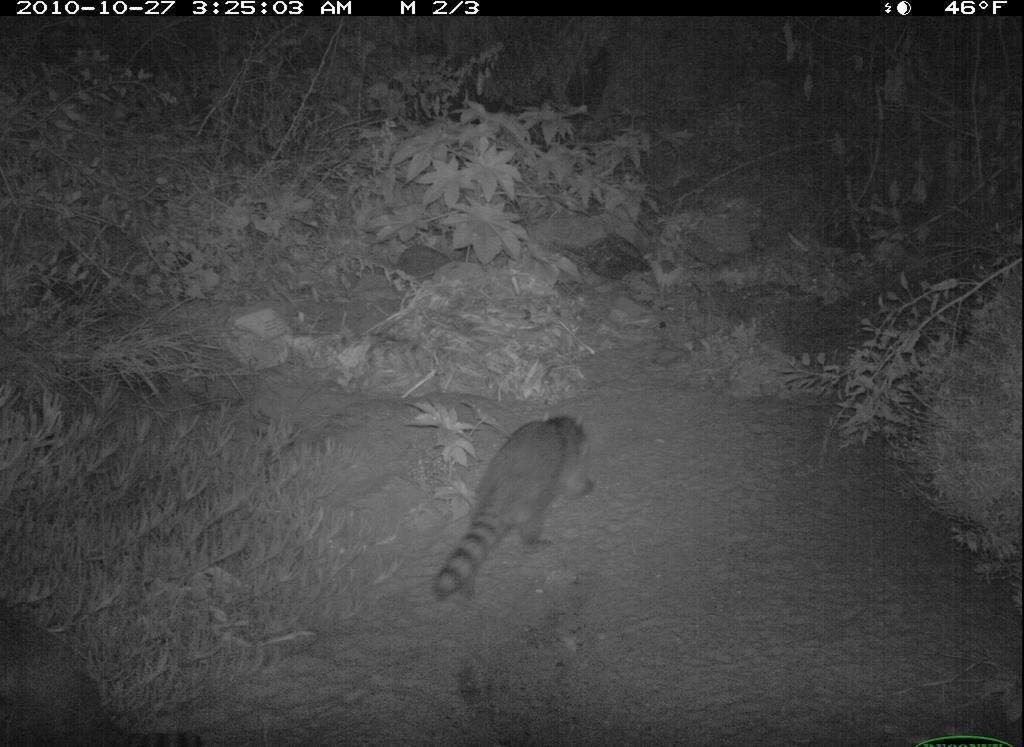raccoon: (425, 409, 601, 612)
